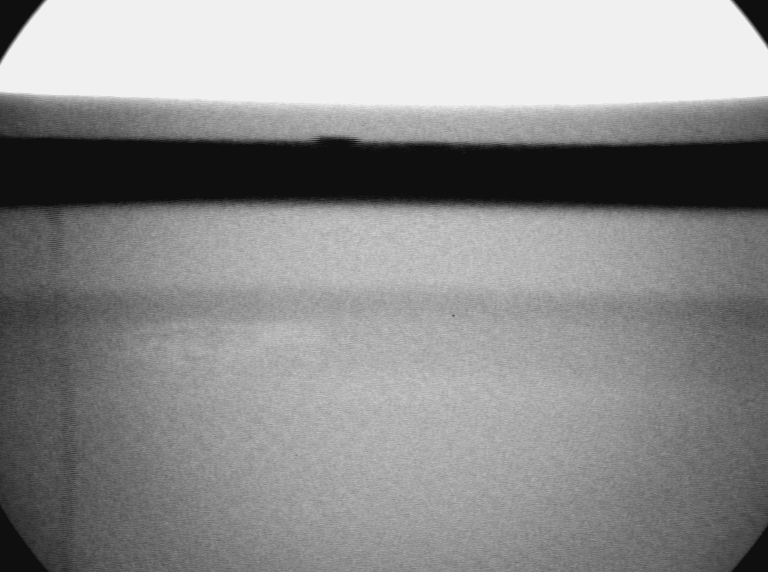defect: (115, 315, 324, 396)
